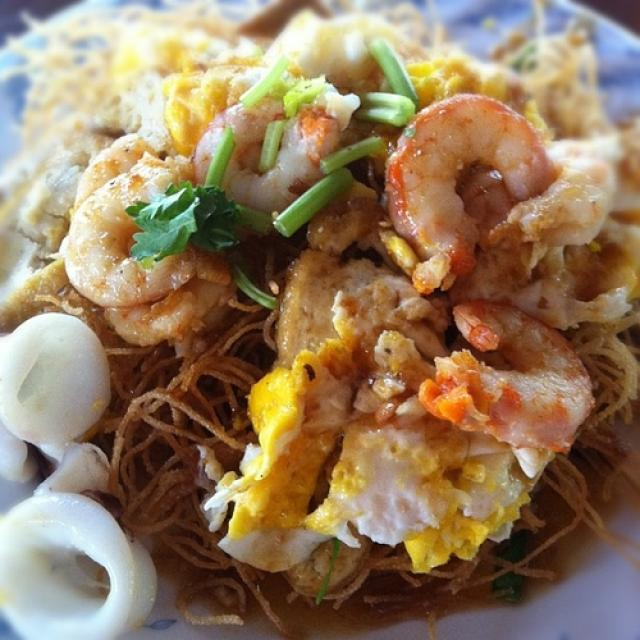面条主食: (37, 32, 623, 602)
